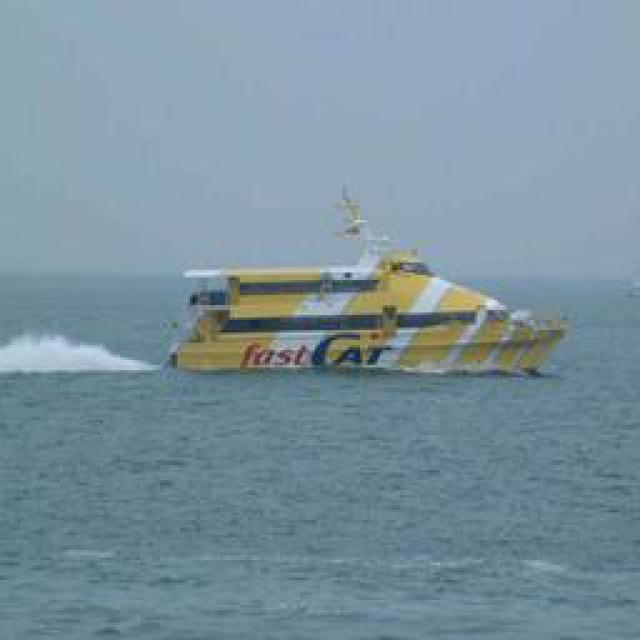Ship: (175, 245, 568, 380)
